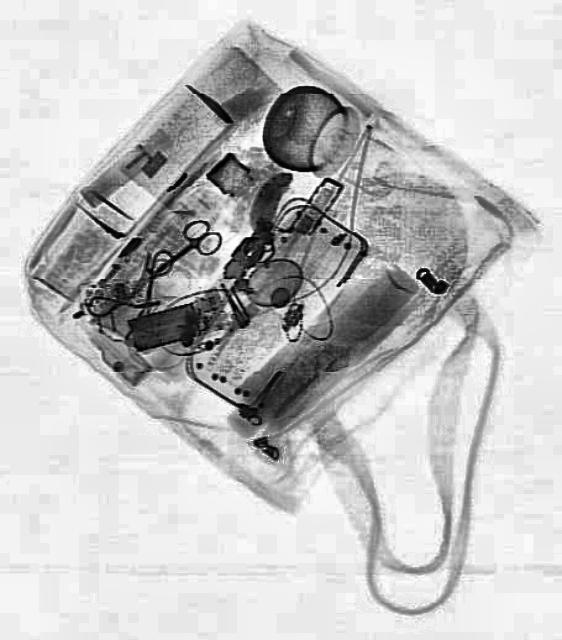Scissors: (144, 208, 224, 284)
